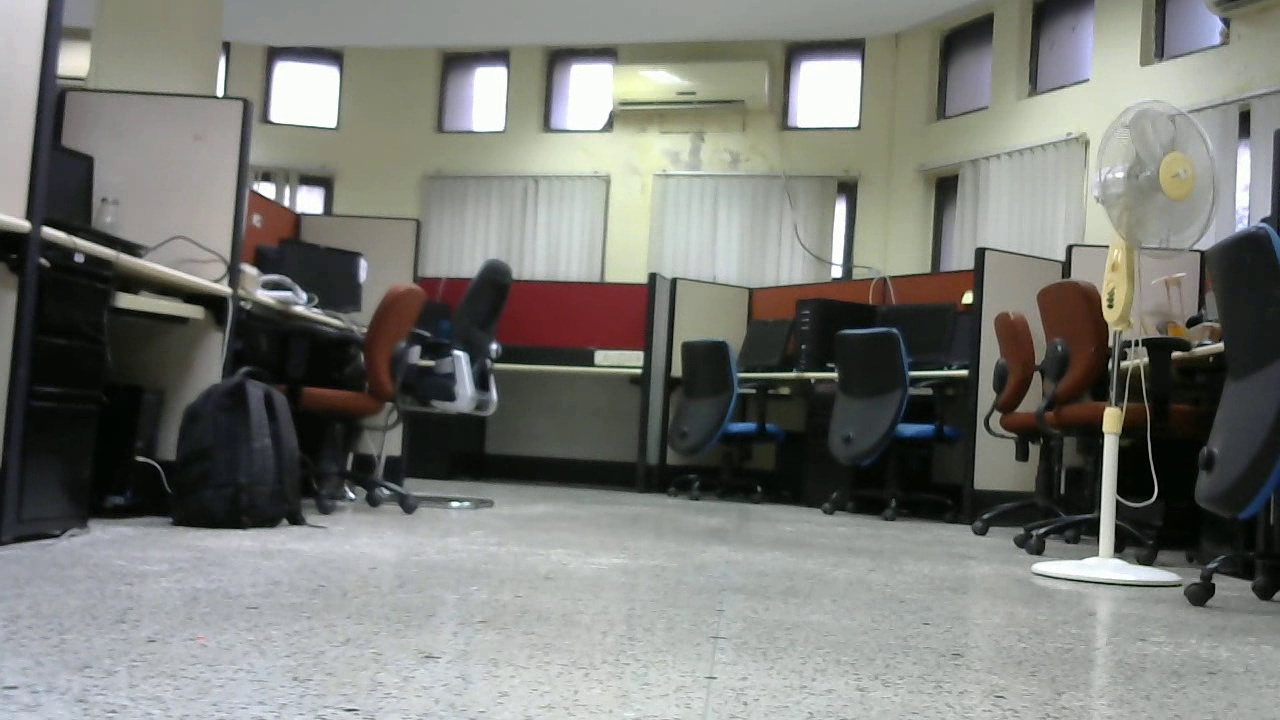chair: (1036, 275, 1180, 556), (289, 284, 438, 515), (811, 325, 959, 525), (417, 246, 514, 509), (659, 336, 795, 504), (975, 307, 1049, 519)
